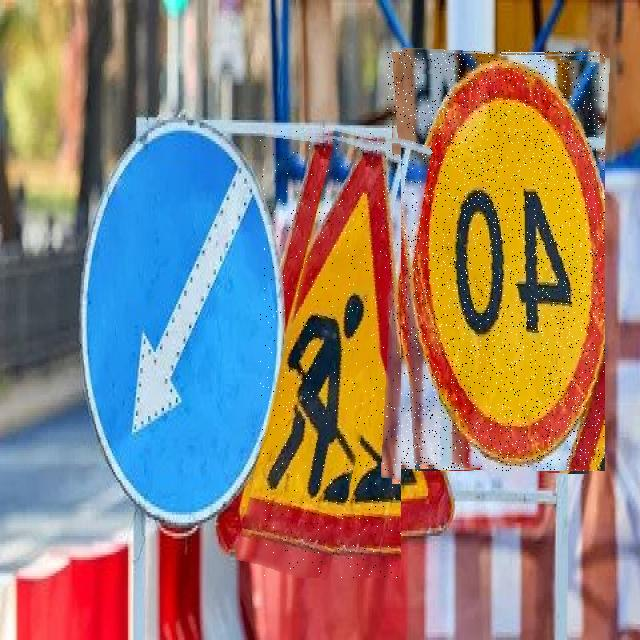roadwork: (260, 128, 401, 578)
speed limit 40: (387, 50, 605, 471)
